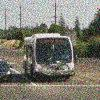buses: (24, 32, 76, 82)
